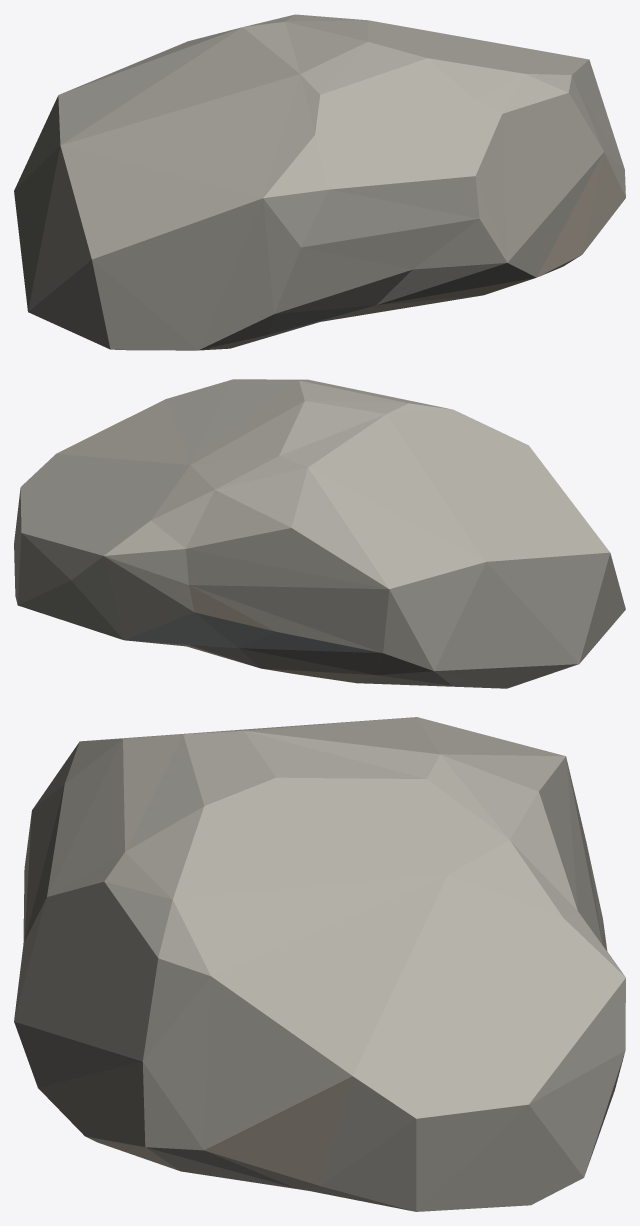
File: rock-d.glb
The picture shows the model from 3 angles, top to bottom: view 1: azimuth 30°, elevation 25°; view 2: azimuth 150°, elevation 25°; view 3: azimuth 270°, elevation 25°; orthographic projection. The views are drawn at different scales.
Parts seen in each view (by area): view 1: Rock_D_Low; view 2: Rock_D_Low; view 3: Rock_D_Low.
Part boxes in pixels (<box>): Rock_D_Low: <box>14,14,625,350</box>; Rock_D_Low: <box>14,379,625,688</box>; Rock_D_Low: <box>14,717,625,1211</box>.
Size of the model in its own units: 1.63 by 0.582 by 1.07.
1 material, 1 textured.
